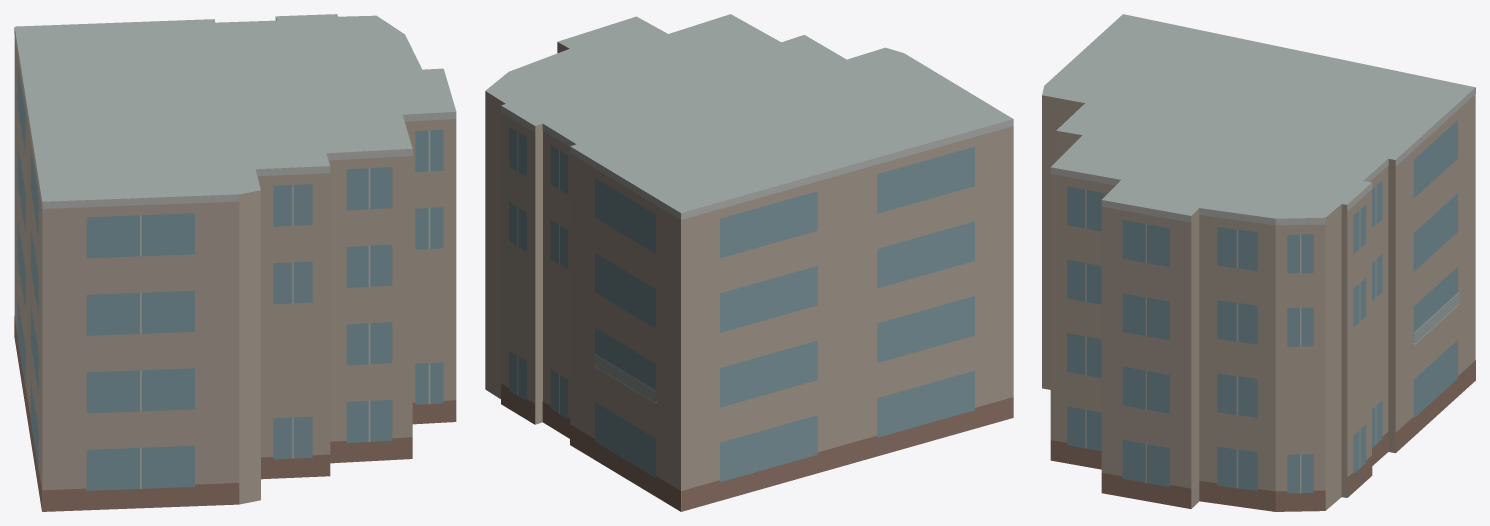
Rendered from survey-upis-33040201.glb.
3 views of the same model, side by side, from view 1: azimuth 30°, elevation 25°; view 2: azimuth 150°, elevation 25°; view 3: azimuth 270°, elevation 25° (orthographic). The views are drawn at different scales.
Parts seen in each view (by area): view 1: survey-upis-33040201.tmp; view 2: survey-upis-33040201.tmp; view 3: survey-upis-33040201.tmp.
Boxes of the visible parts, <box> form: survey-upis-33040201.tmp: <box>14,14,456,511</box>; survey-upis-33040201.tmp: <box>485,14,1013,511</box>; survey-upis-33040201.tmp: <box>1042,14,1475,511</box>.
Size of the model in its own units: 15.96 by 10.65 by 14.28.
